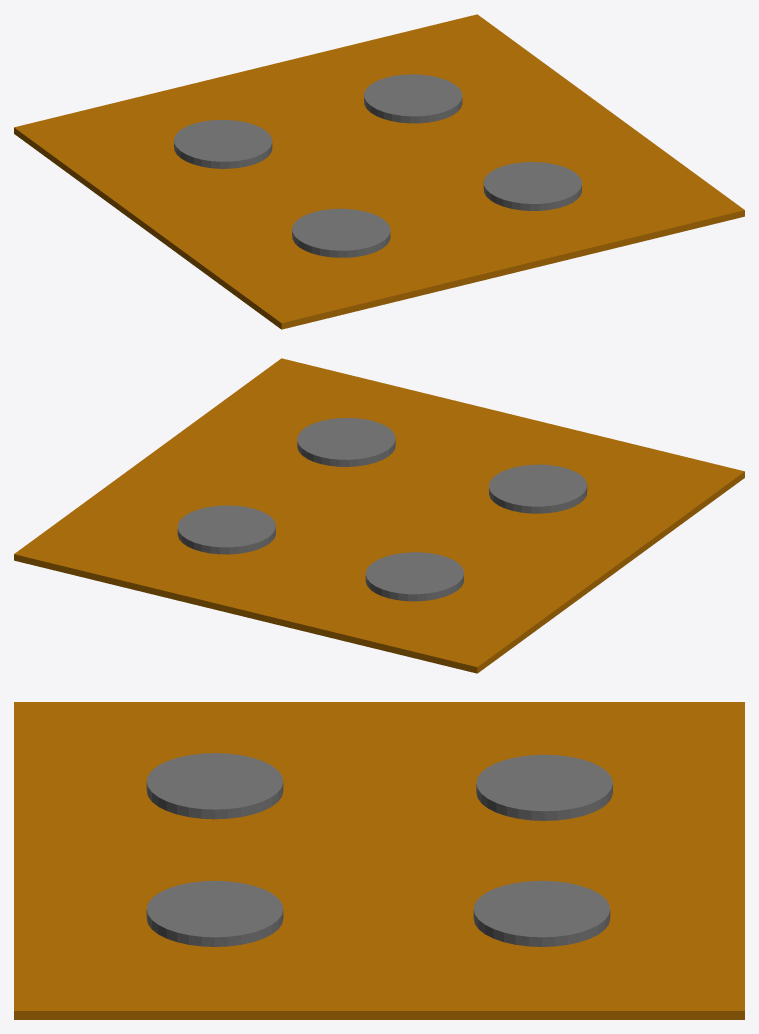
File: Purchased Plot.fbx
The picture shows the model from 3 angles, top to bottom: view 1: azimuth 30°, elevation 25°; view 2: azimuth 150°, elevation 25°; view 3: azimuth 270°, elevation 25°; orthographic projection. The views are drawn at different scales.
Parts seen in each view (by area): view 1: Cube, Cylinder.003, Cylinder.001, Cylinder.002, Cylinder; view 2: Cube, Cylinder, Cylinder.003, Cylinder.001, Cylinder.002; view 3: Cube, Cylinder.001, Cylinder.002, Cylinder.003, Cylinder.
Part boxes in pixels (x1,y1,x2,y2): Cube: (14,14,744,329); Cylinder.003: (364,74,462,123); Cylinder.001: (292,208,390,257); Cylinder.002: (483,162,581,210); Cylinder: (174,120,272,168); Cube: (14,358,744,673); Cylinder: (365,552,463,601); Cylinder.003: (177,505,275,554); Cylinder.001: (489,464,587,513); Cylinder.002: (297,418,395,466); Cube: (14,702,744,1019); Cylinder.001: (146,753,283,819); Cylinder.002: (146,880,283,946); Cylinder.003: (473,880,610,946); Cylinder: (476,754,612,820).
Bounding box in the file's own units: 150 × 4.19 × 150.
